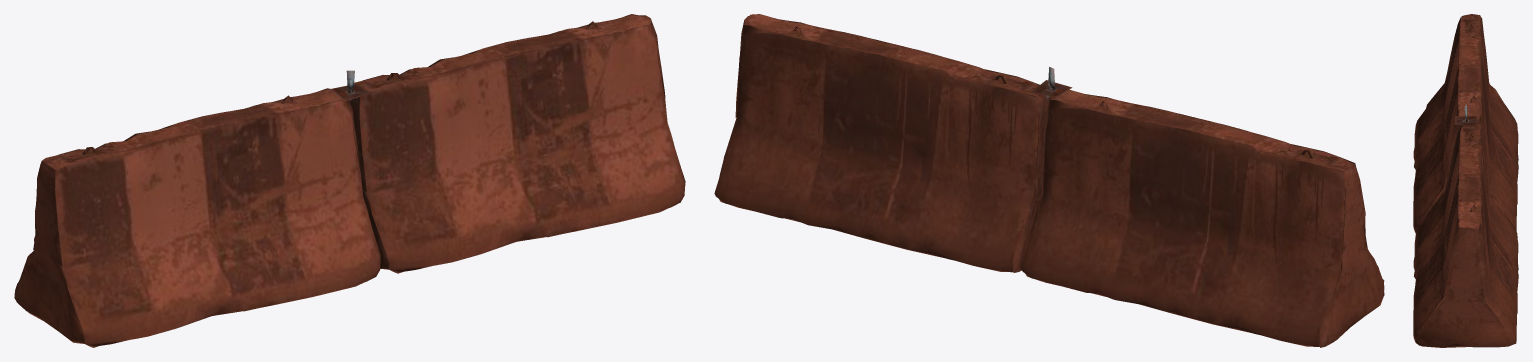
The model's file is concrete_barrier.glb.
3 renders of one model, left to right at view 1: azimuth 30°, elevation 25°; view 2: azimuth 150°, elevation 25°; view 3: azimuth 270°, elevation 25°, orthographic. The views are drawn at different scales.
Parts seen in each view (by area): view 1: concrete_barrier; view 2: concrete_barrier; view 3: concrete_barrier.
Part boxes in pixels (left/top/right/bottom): concrete_barrier: left=14, top=14, right=685, bottom=347; concrete_barrier: left=714, top=14, right=1384, bottom=347; concrete_barrier: left=1413, top=14, right=1518, bottom=347.
Size of the model in its own units: 2.99 by 0.8734 by 0.6116.
1 material, 1 textured.
